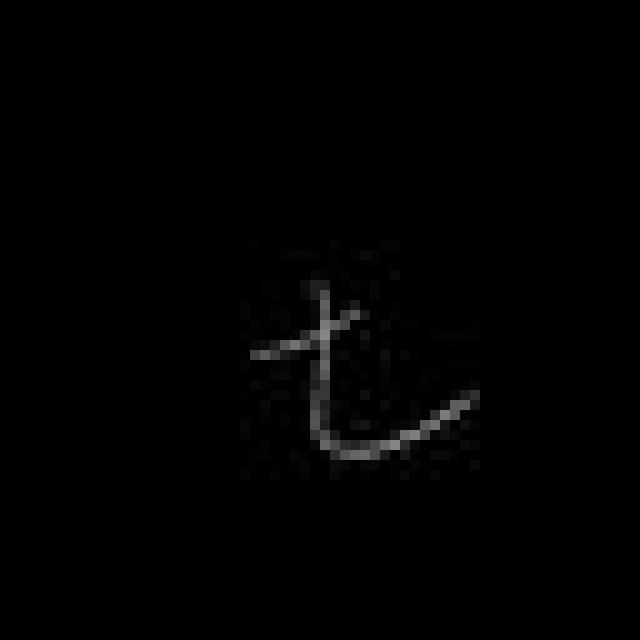7 -seven-: (245, 280, 484, 466)
